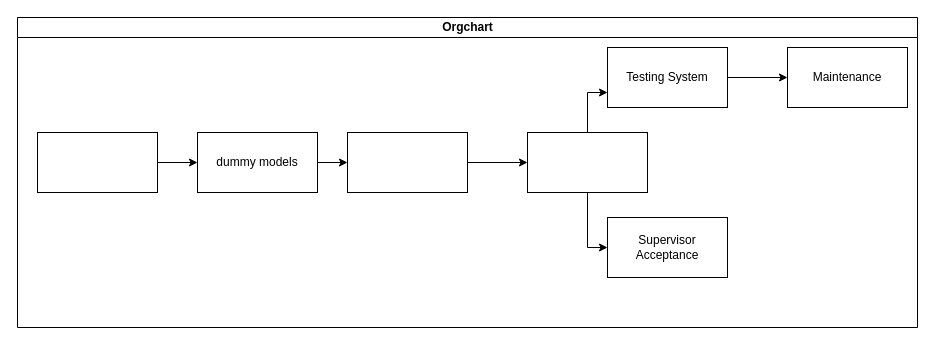
This 935x345 diagram has some shape labels left out. The shapes that lost their labels are listed below. From the top down, each one's centre as x and y in pixels, then its label:
At point (97, 162): "Initial Requirement".
At point (407, 162): "Online Voting System Design".
At point (587, 162): "Supervisor Feedback".
